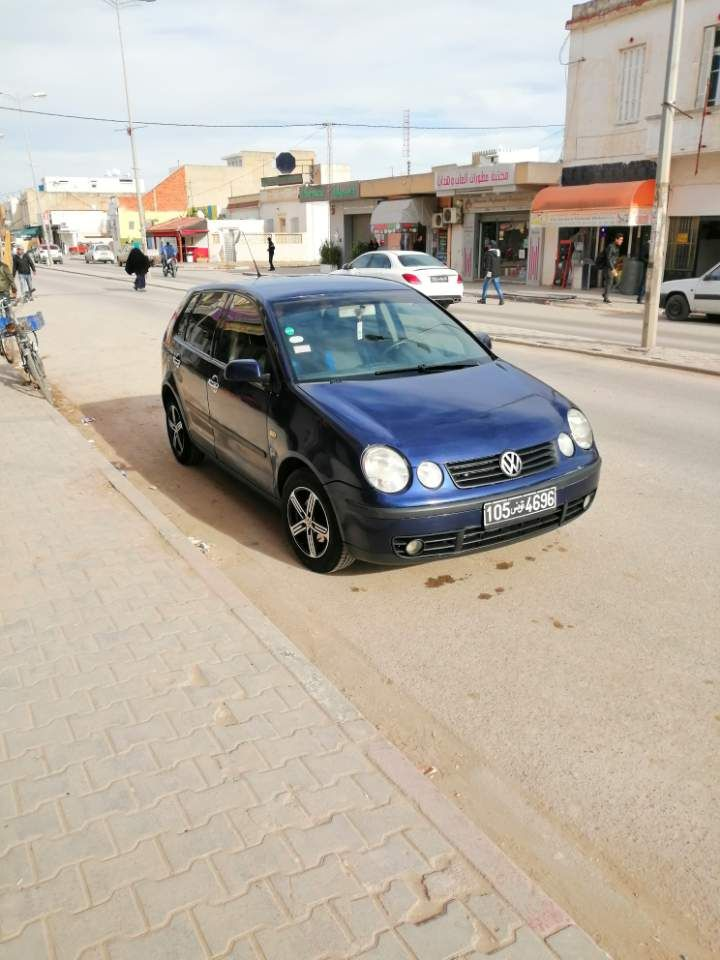LP: (482, 487, 559, 526)
